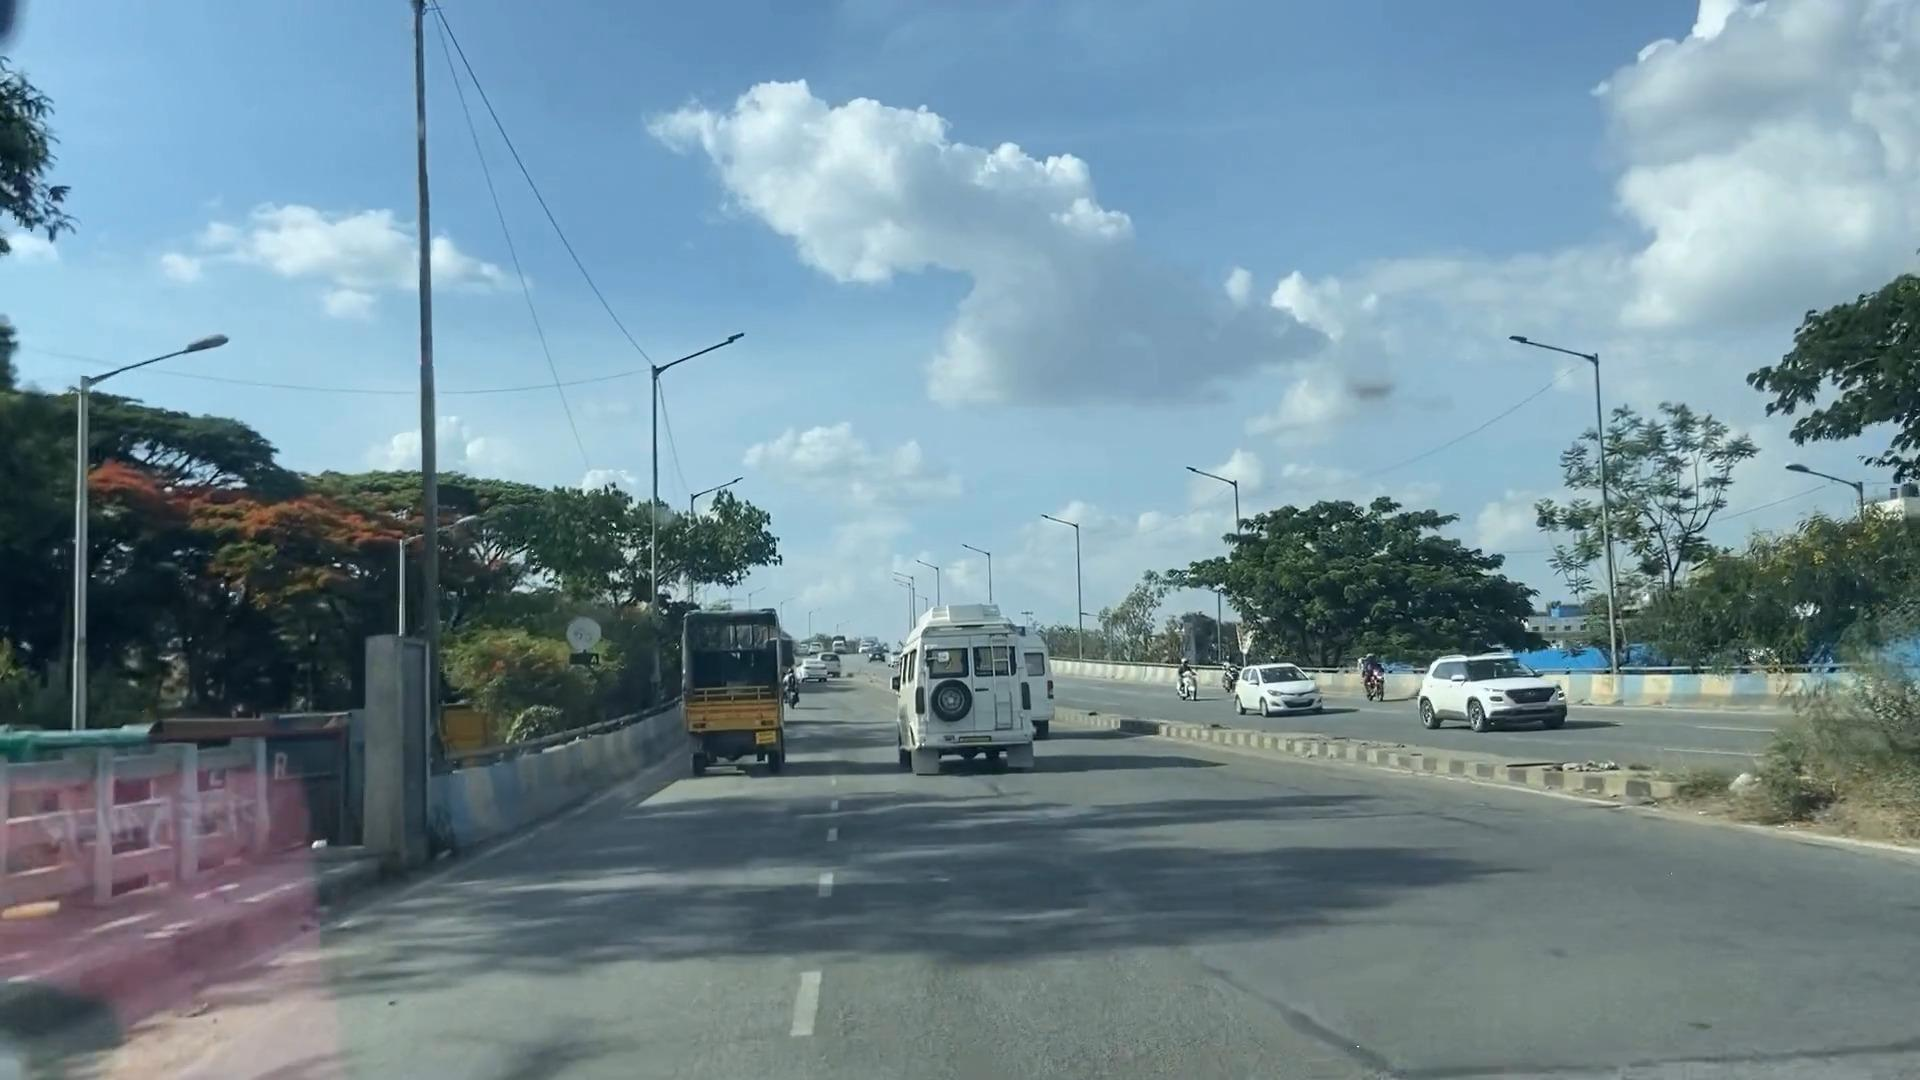HMV: (886, 606, 1041, 778), (680, 614, 788, 797)
